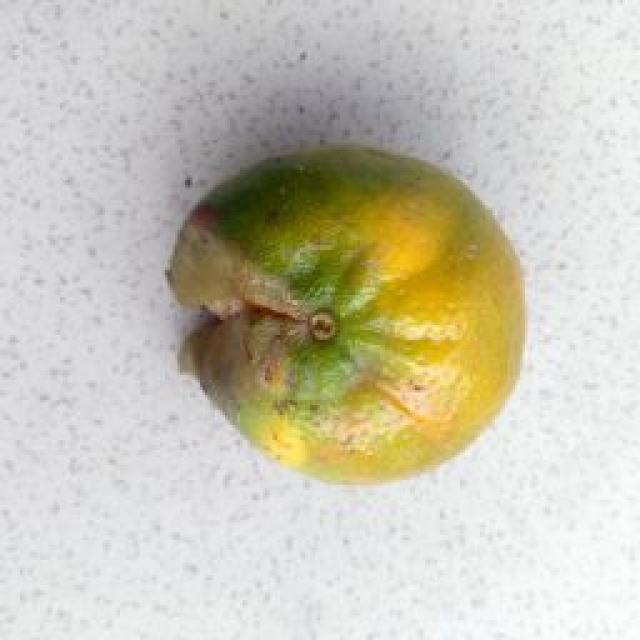Bad_Orange: (169, 146, 525, 482)
